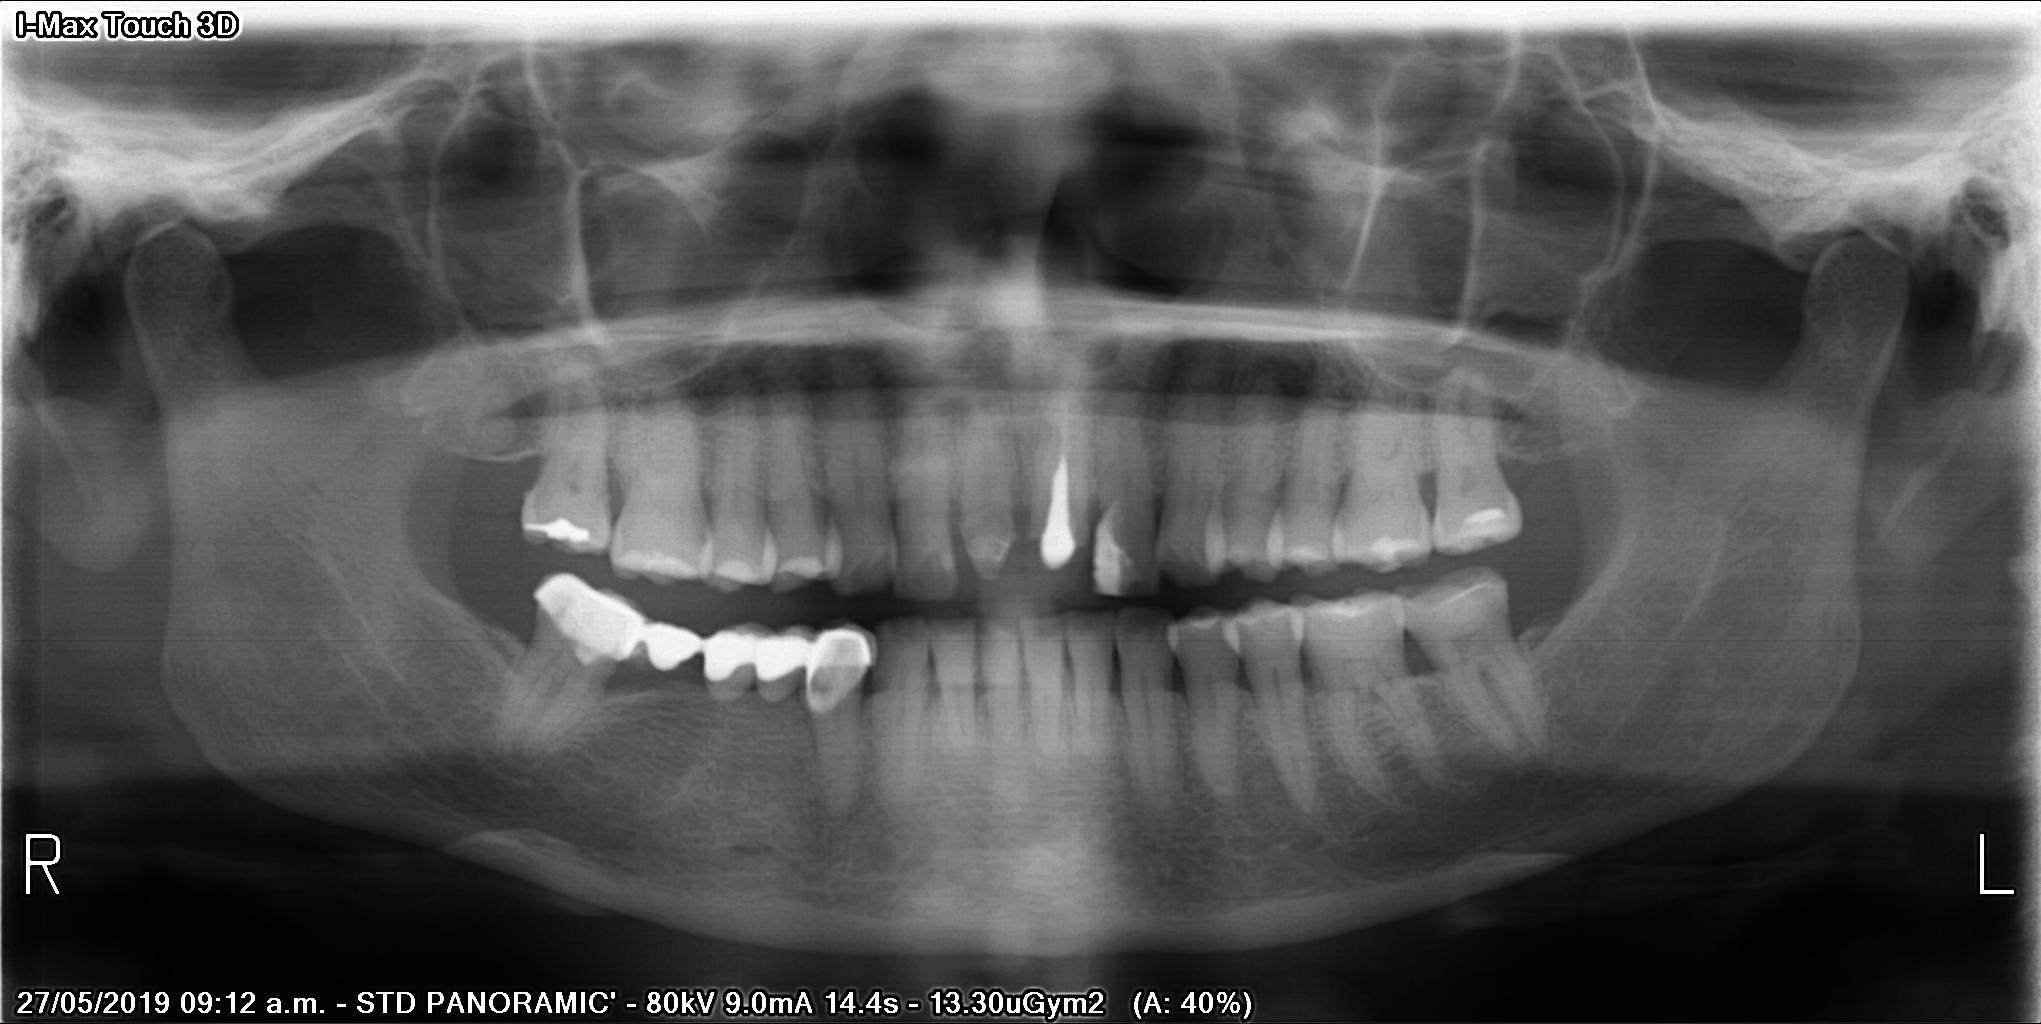Çürük: (528, 567, 641, 675), (798, 626, 880, 722), (511, 505, 611, 554), (1086, 516, 1116, 600), (1457, 499, 1513, 536)
